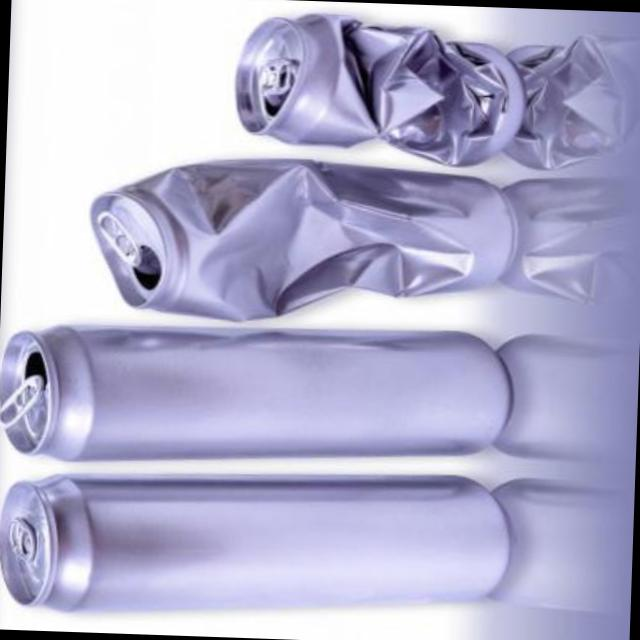metal: (0, 477, 506, 612), (0, 328, 506, 461), (89, 162, 512, 321), (233, 17, 522, 166)
